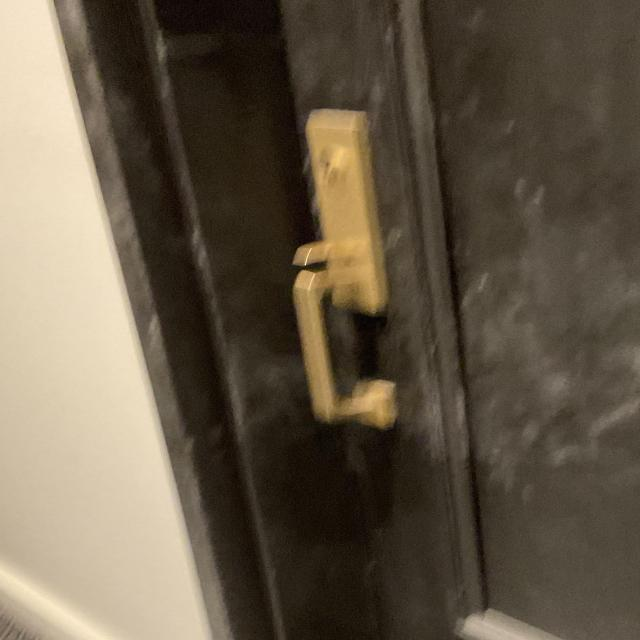door_handle: (278, 268, 408, 435)
